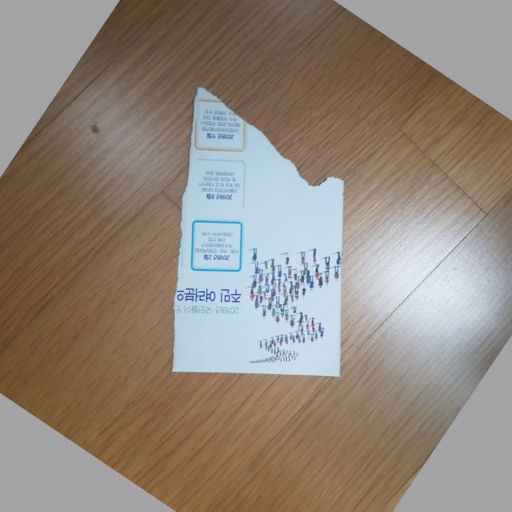Paper_2: (176, 180, 362, 404)
